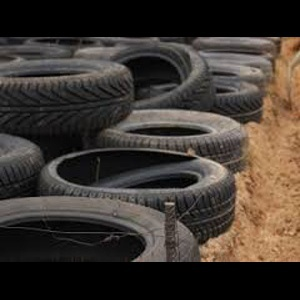tire: (38, 147, 238, 250), (1, 195, 199, 262), (82, 108, 246, 176), (75, 42, 216, 118), (1, 59, 133, 135), (136, 76, 262, 128)
